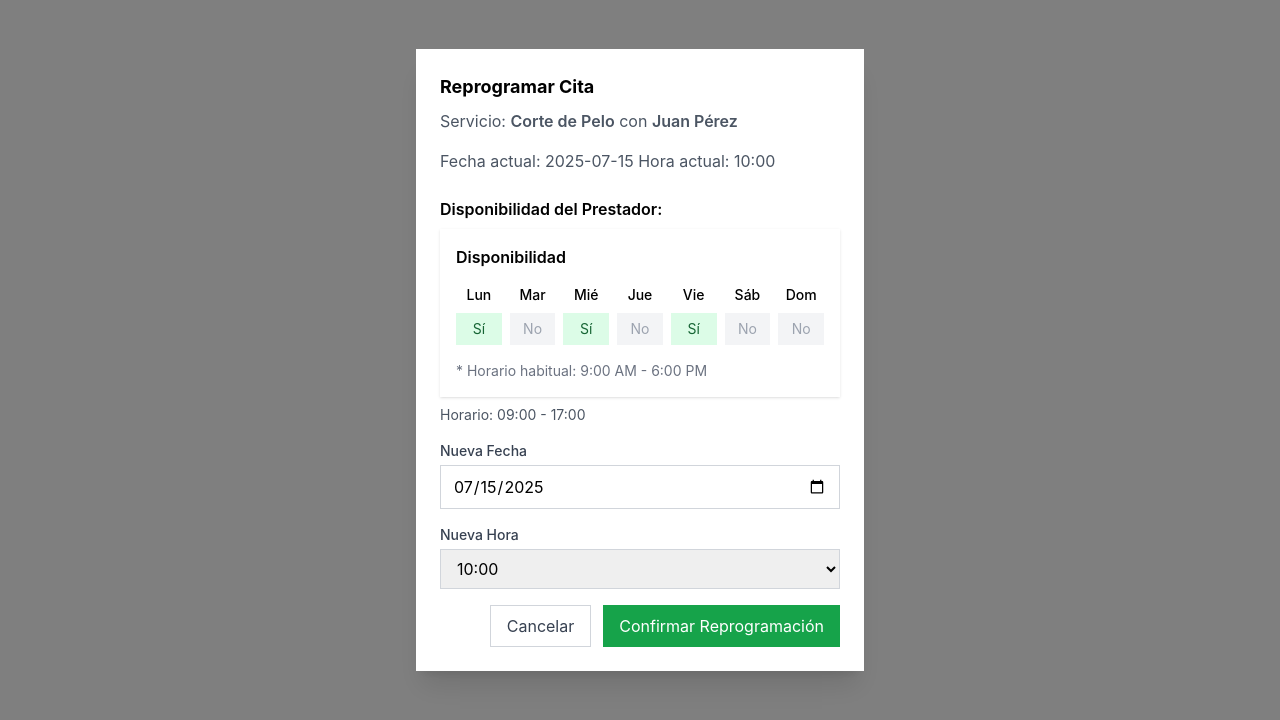
Test: RescheduleAppointmentModal › debe mostrar un mensaje de error si se intenta reprogramar sin seleccionar hora
The image size is (1280, 720).
Select "Seleccionar hora" in the dropdown labelled "Nueva Hora" at point(640, 569), box x1=440 y1=549 x2=840 y2=589
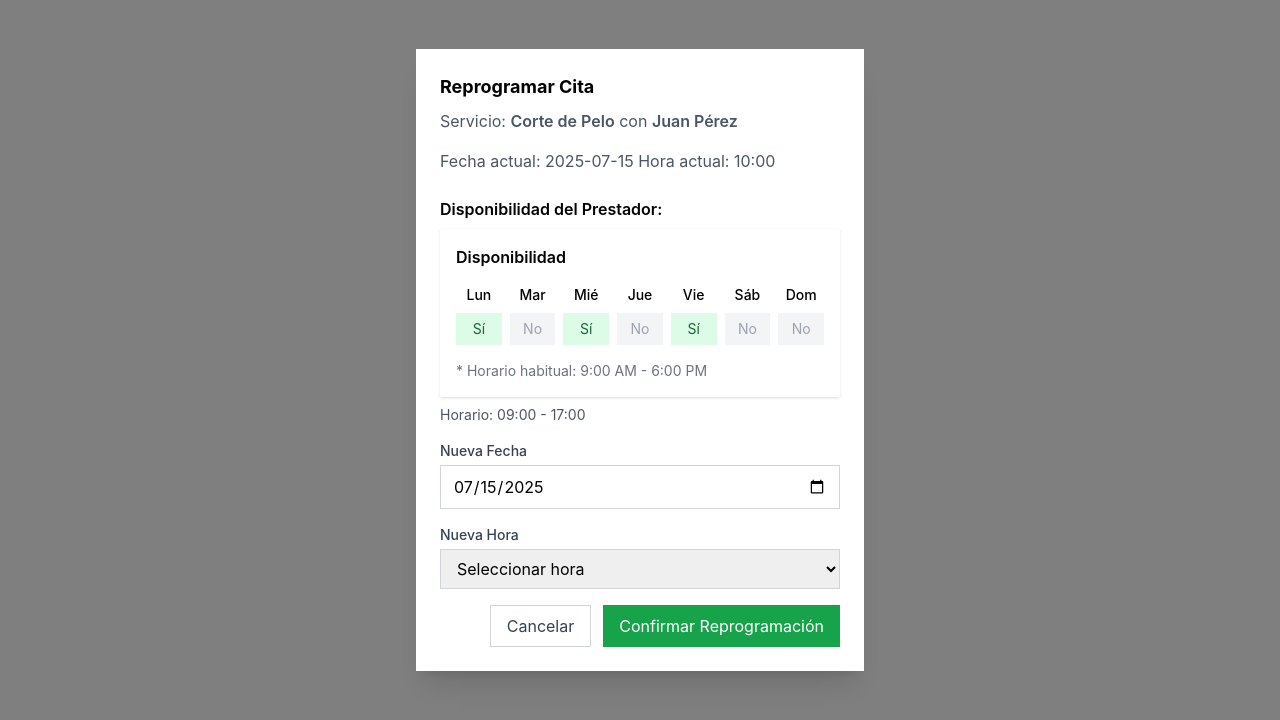
Click the button "Confirmar Reprogramación" at point(722, 626), box x1=603 y1=605 x2=840 y2=647
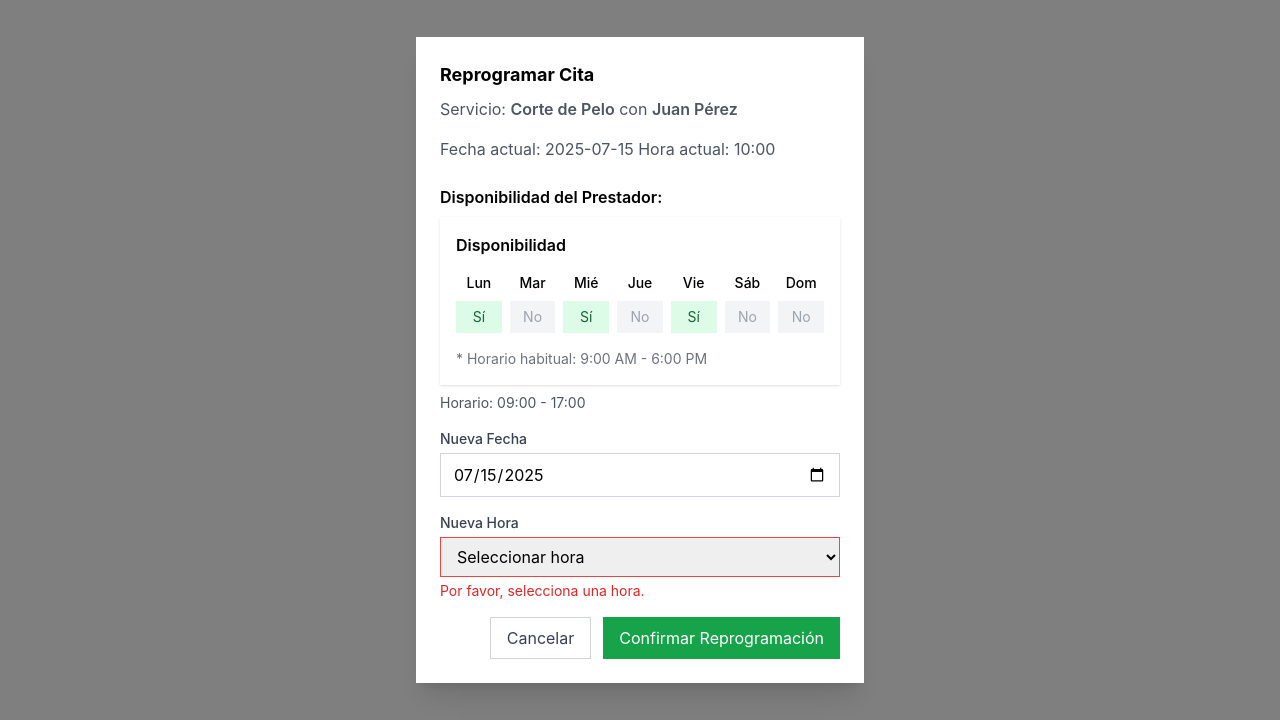
Result: the text "Por favor, selecciona una hora." is shown at x1=440 y1=582 x2=645 y2=599
